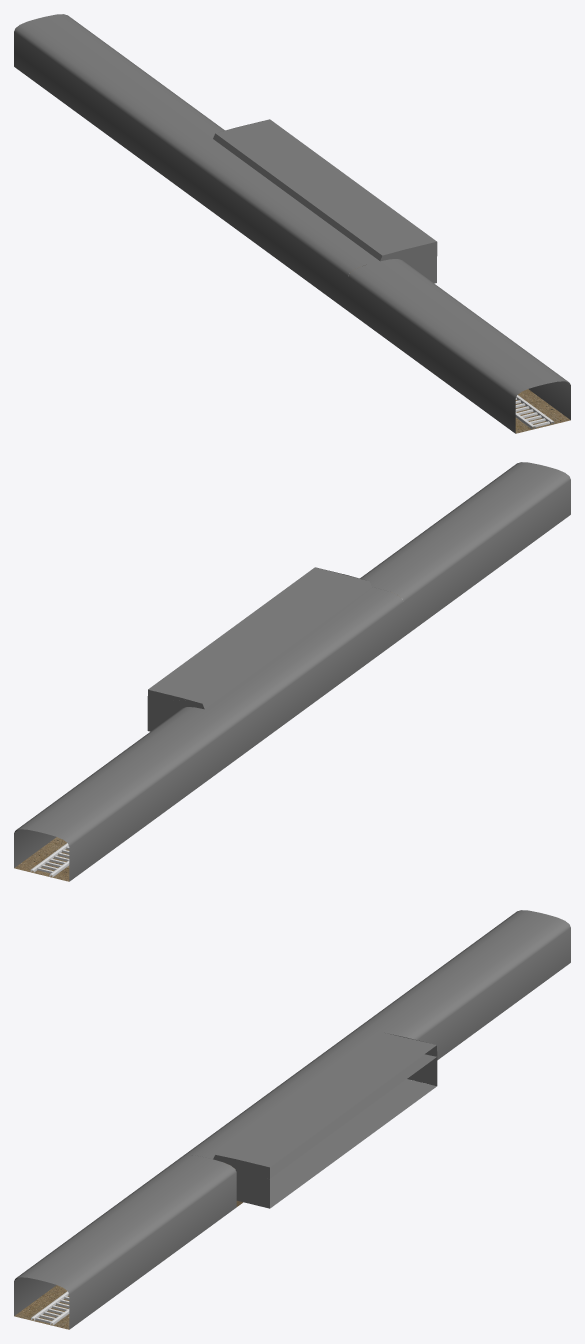
Rendered from Subway.fbx.
3 views of the same model, one above another, from view 1: azimuth 30°, elevation 25°; view 2: azimuth 150°, elevation 25°; view 3: azimuth 330°, elevation 25° (orthographic).
Parts seen in each view (by area): view 1: Udg_Obj045, Udg_Obj043, Udg_Obj044, Plane006, Plane003; view 2: Udg_Obj043, Udg_Obj045, Udg_Obj044, Plane006, Plane004; view 3: Udg_Obj045, Udg_Obj043, Plane006, Udg_Obj044, Plane005, Plane003, Plane004.
Boxes of the visible parts, bbox=[...] form: Udg_Obj045: bbox=[348, 259, 570, 433]; Udg_Obj043: bbox=[14, 14, 224, 188]; Udg_Obj044: bbox=[181, 133, 403, 310]; Plane006: bbox=[215, 119, 436, 255]; Plane003: bbox=[383, 241, 437, 283]; Udg_Obj043: bbox=[14, 707, 236, 881]; Udg_Obj045: bbox=[360, 462, 570, 636]; Udg_Obj044: bbox=[165, 581, 403, 758]; Plane006: bbox=[148, 567, 368, 703]; Plane004: bbox=[147, 689, 198, 731]; Udg_Obj045: bbox=[14, 1155, 236, 1329]; Udg_Obj043: bbox=[350, 910, 570, 1060]; Plane006: bbox=[215, 1032, 436, 1167]; Udg_Obj044: bbox=[183, 1032, 436, 1208]; Plane005: bbox=[270, 1054, 436, 1178]; Plane003: bbox=[216, 1155, 269, 1208]; Plane004: bbox=[390, 1034, 437, 1085].
Bounding box in the file's own units: 331 × 172 × 3241.
